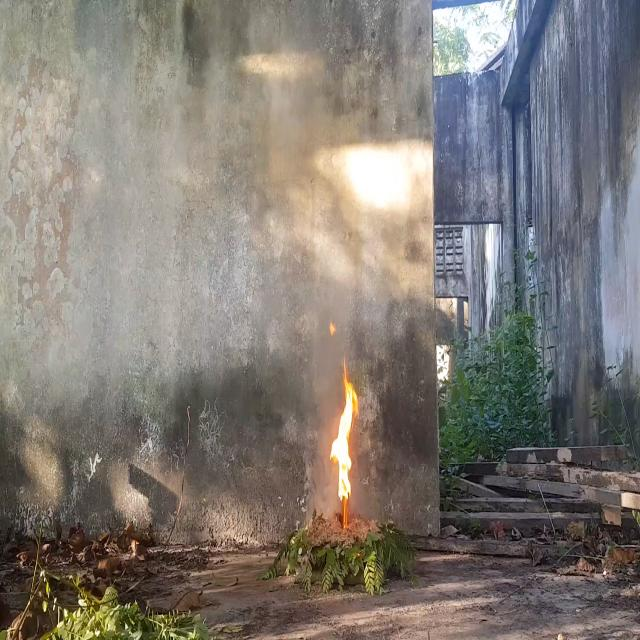fire: (329, 331, 362, 503)
smoke: (263, 61, 328, 395)
